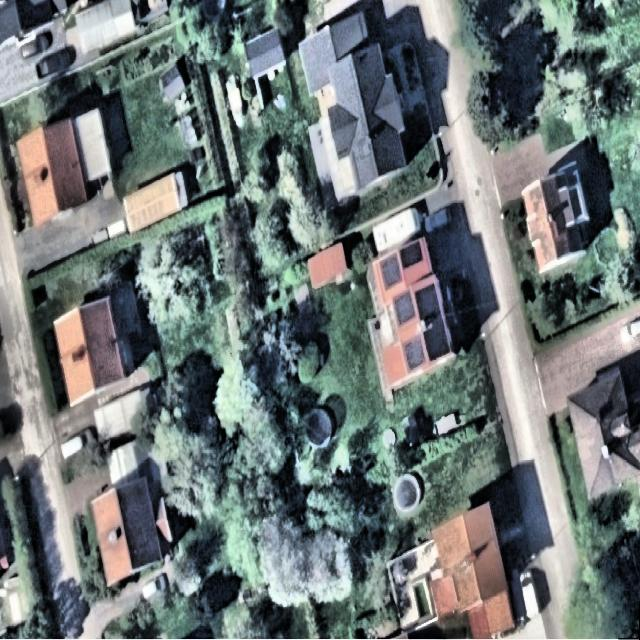roof_pv: (412, 279, 442, 320), (400, 335, 430, 375), (391, 286, 417, 332), (428, 312, 451, 363), (378, 252, 404, 296), (396, 237, 425, 273)
